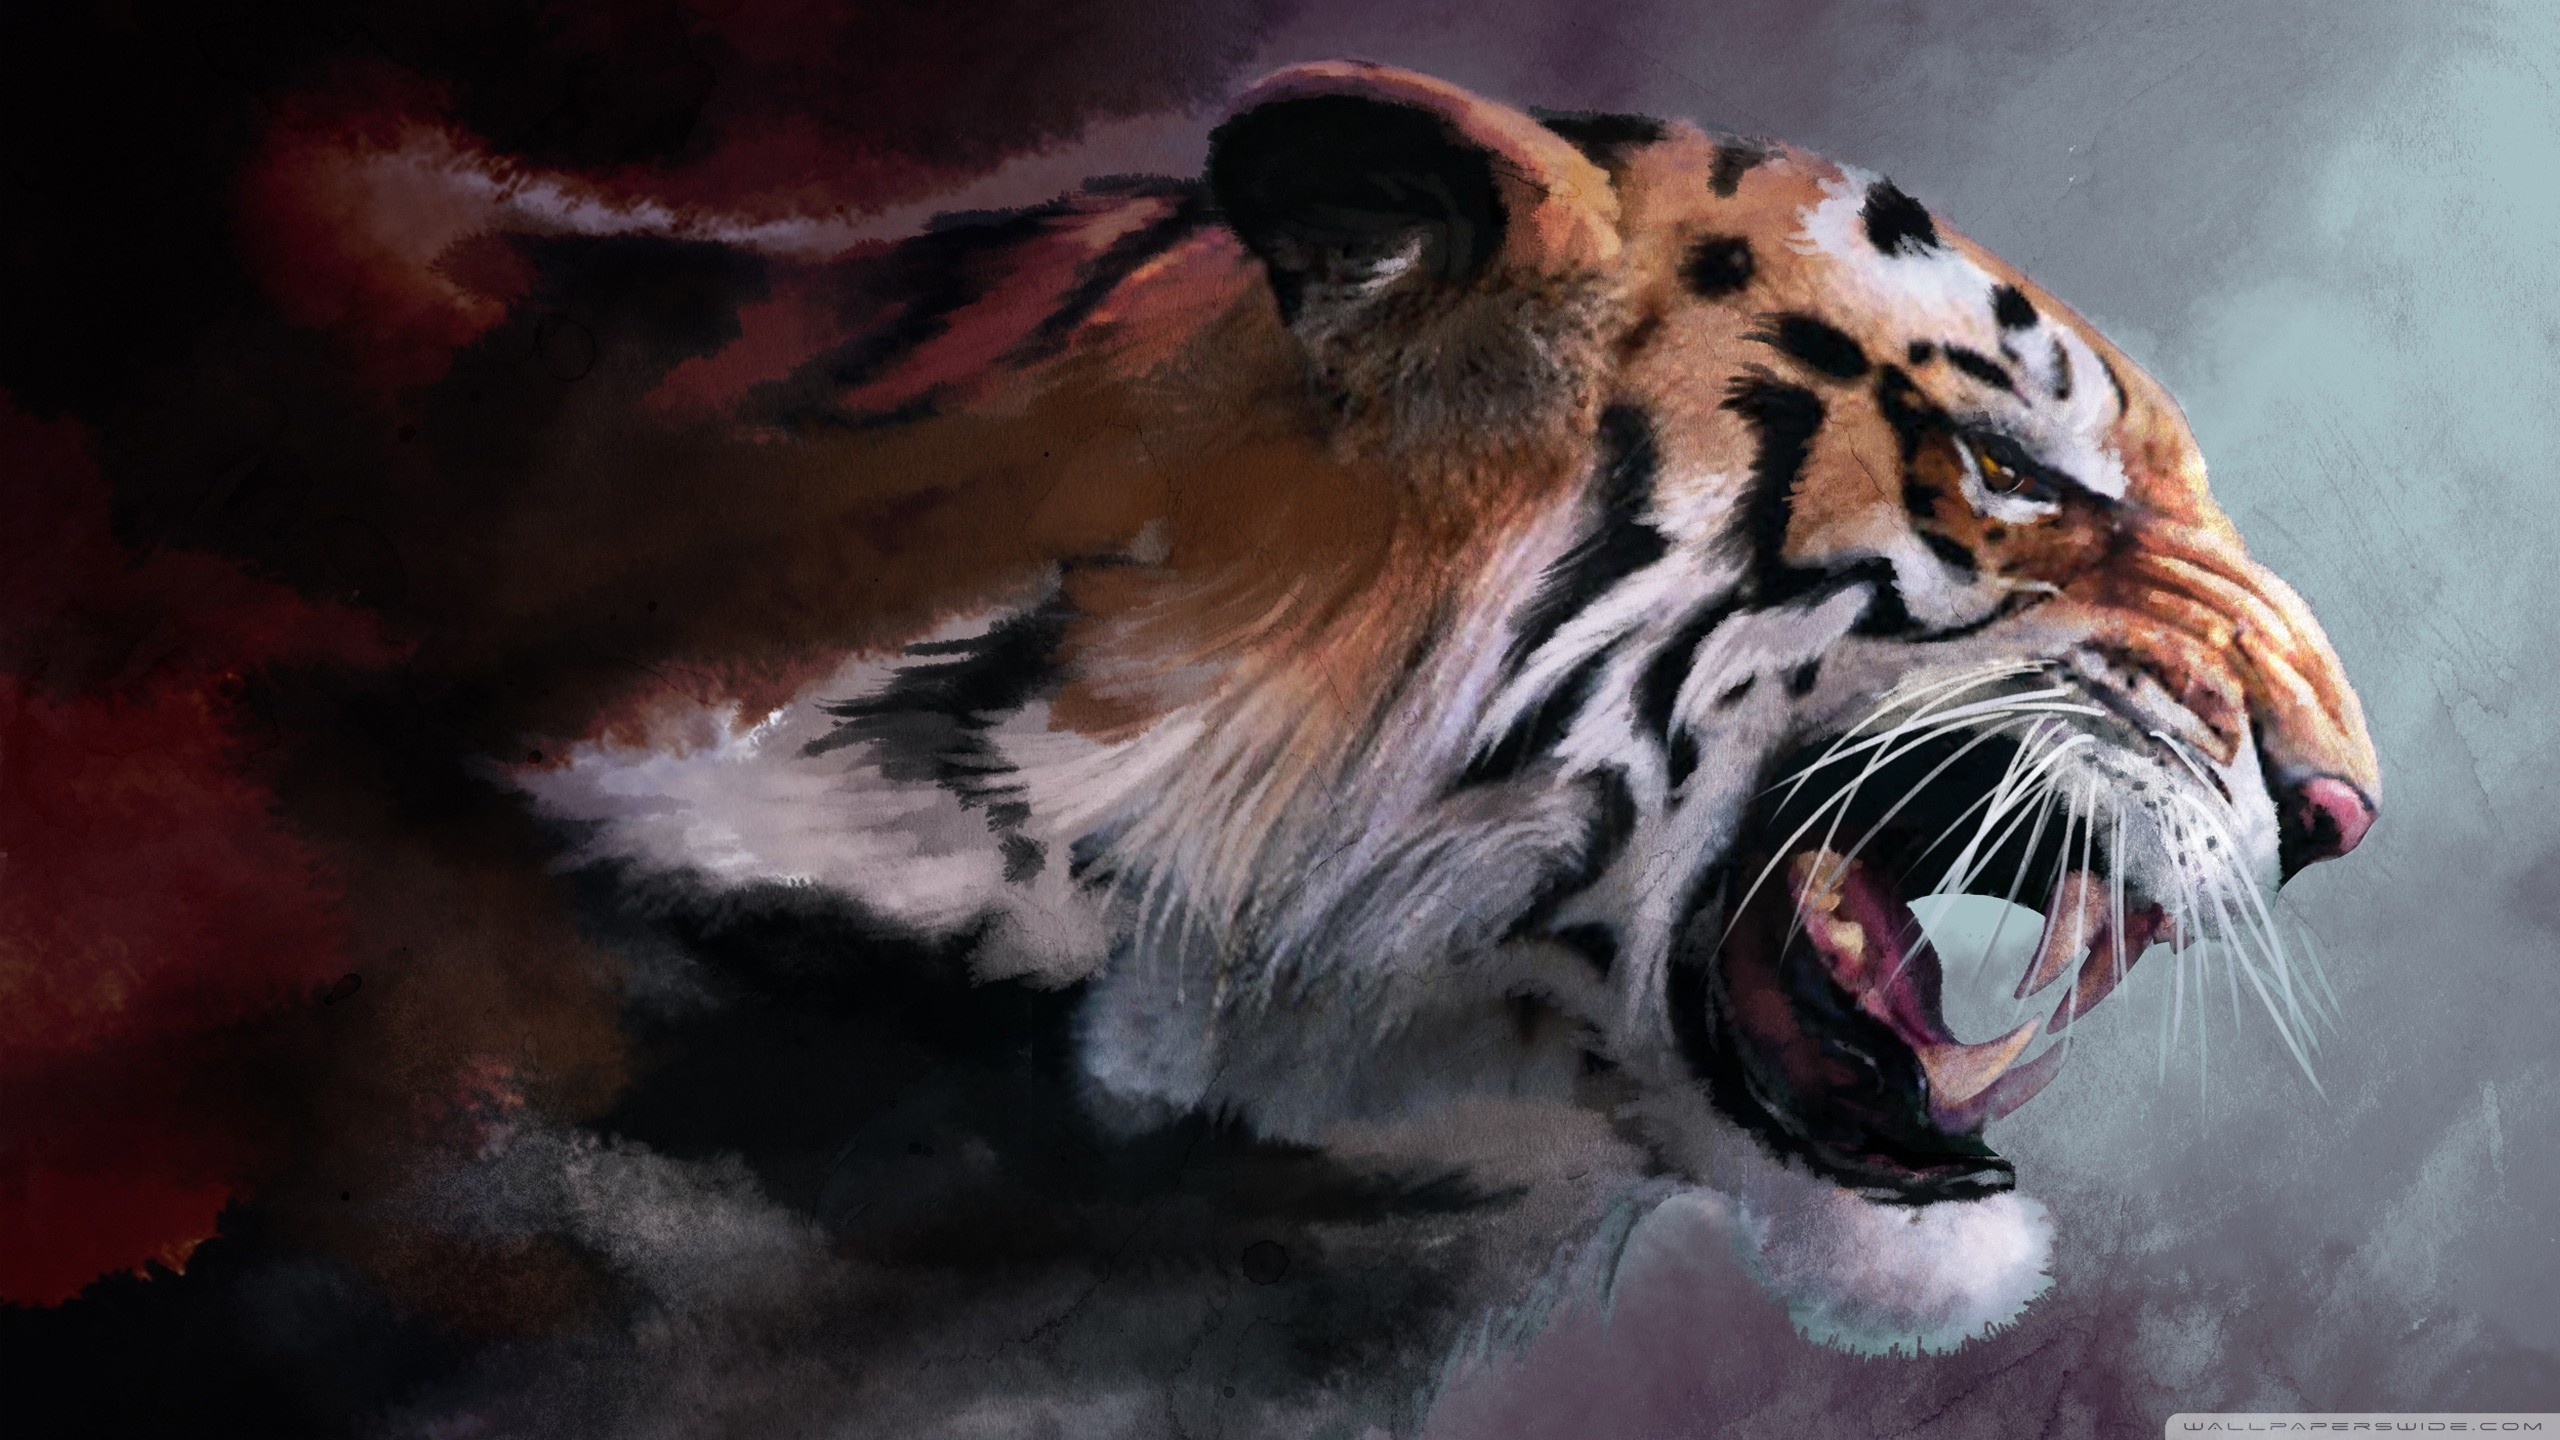tiger: (86, 46, 2418, 1398)
